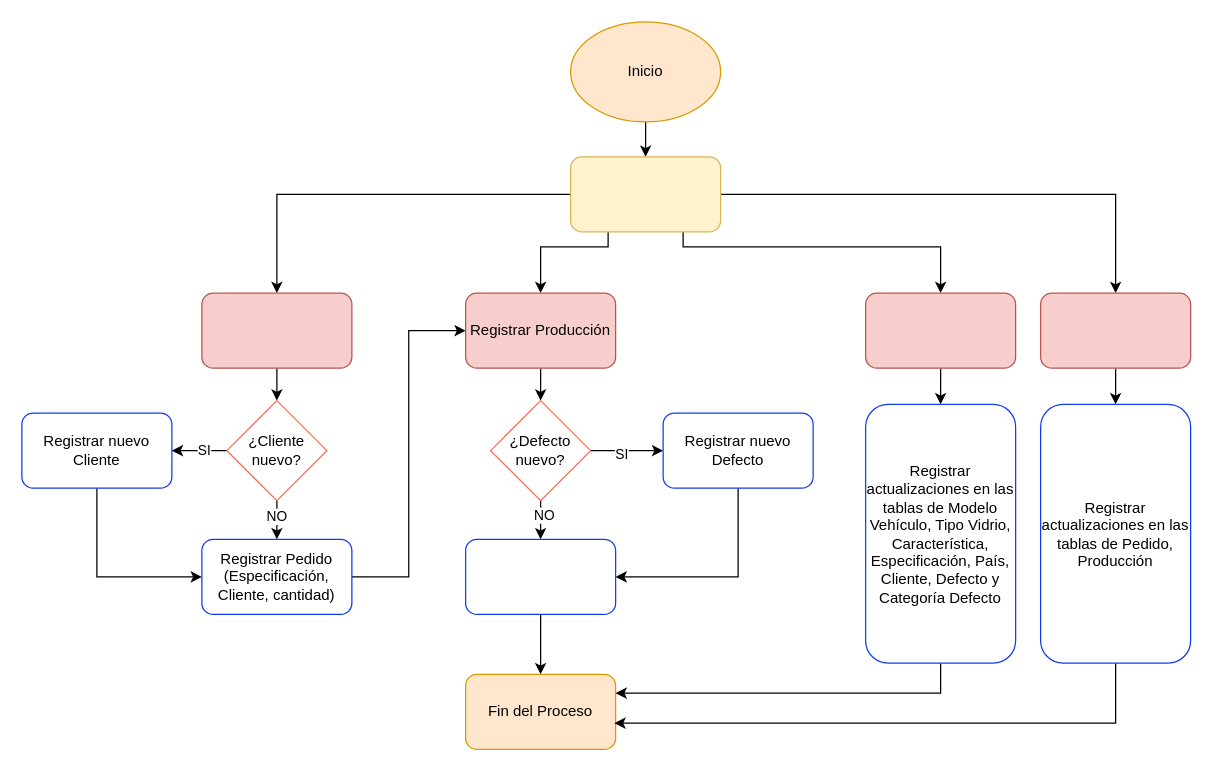
This 1213x771 diagram has some shape labels left out. The box of each missing label's shape, as (x1, y1, x2, y2) in pixels:
Modificación de Tablas Maestras: (864, 292, 1016, 368)
Modificación de Tablas Transaccionales: (1039, 292, 1191, 368)
Registrar Pedido: (201, 292, 352, 368)
Registrar Producción (Defecto, cantidad): (464, 538, 616, 614)
¿Qué va a hacer?: (569, 156, 721, 232)
